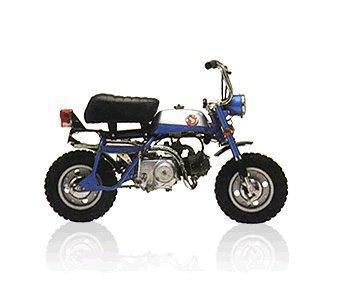motorcycle: (34, 51, 298, 231)
